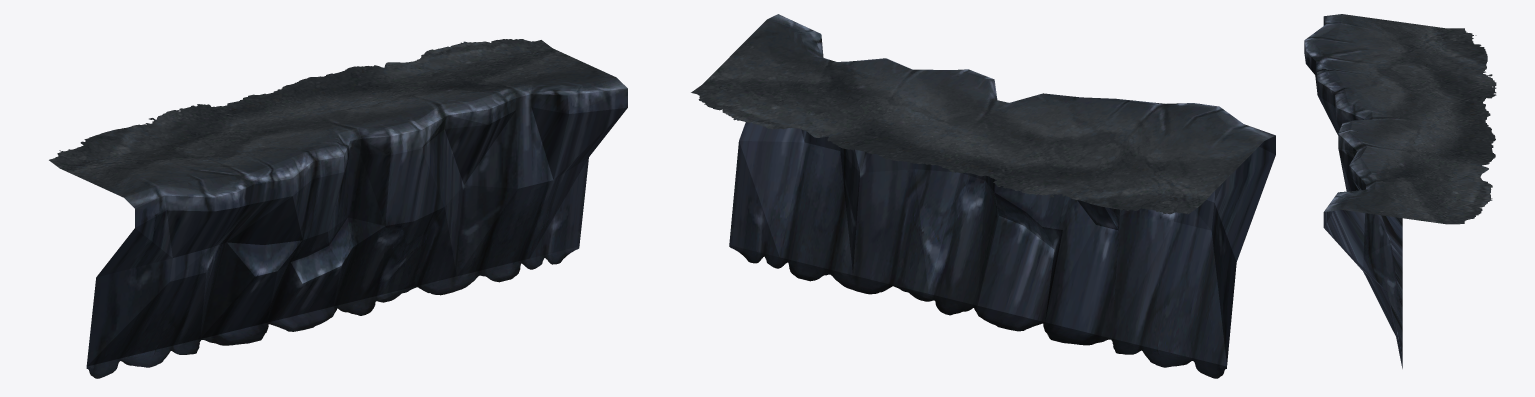
File: mine_trim_straight_02.fbx
3 renders of one model, left to right at view 1: azimuth 30°, elevation 25°; view 2: azimuth 150°, elevation 25°; view 3: azimuth 270°, elevation 25°, orthographic. The views are drawn at different scales.
Visible parts, largest first — view 1: obj0.012; view 2: obj0.012; view 3: obj0.012.
Part boxes in pixels (left/top/right/bottom): obj0.012: left=49, top=39, right=627, bottom=378; obj0.012: left=691, top=14, right=1275, bottom=378; obj0.012: left=1304, top=14, right=1496, bottom=368.
Size of the model in its own units: 4 by 1.68 by 1.87.
